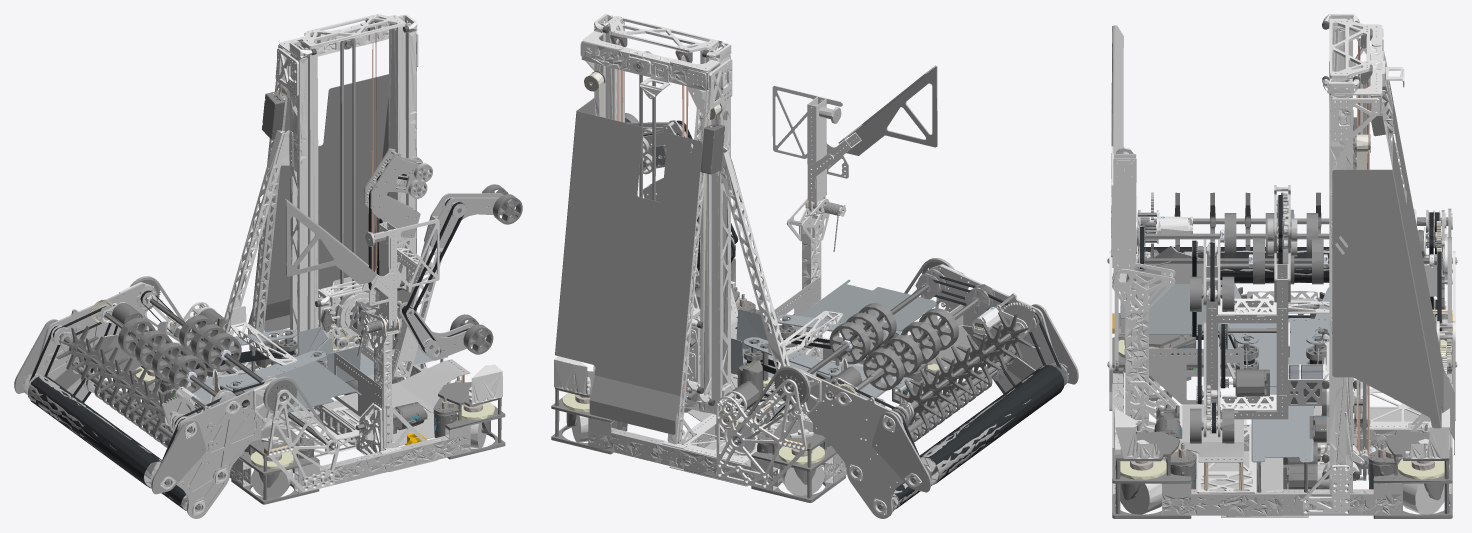
Rendered from taiyaki-5940.glb.
3 renders of one model, left to right at view 1: azimuth 30°, elevation 25°; view 2: azimuth 150°, elevation 25°; view 3: azimuth 270°, elevation 25°, orthographic. The views are drawn at different scales.
Visible parts, largest first — view 1: frame, intake, effector, elevator-stage, climber, carriage; view 2: frame, intake, climber, elevator-stage, effector, carriage; view 3: frame, effector, intake, climber, elevator-stage, carriage.
Boxes of the visible parts, <box> form: frame: <box>127,14,505,504</box>; intake: <box>14,279,297,518</box>; effector: <box>338,148,522,377</box>; elevator-stage: <box>301,14,406,329</box>; climber: <box>285,198,439,331</box>; carriage: <box>315,280,404,361</box>; frame: <box>551,14,954,502</box>; intake: <box>773,261,1078,518</box>; climber: <box>772,65,937,213</box>; elevator-stage: <box>605,16,719,406</box>; effector: <box>625,113,738,338</box>; carriage: <box>684,307,703,393</box>; frame: <box>1107,14,1457,518</box>; effector: <box>1190,185,1354,443</box>; intake: <box>1107,192,1457,339</box>; climber: <box>1111,25,1137,279</box>; elevator-stage: <box>1322,18,1372,479</box>; carriage: <box>1309,331,1362,462</box>.
Bounding box in the file's own units: 1.22 × 1.05 × 0.7582.
